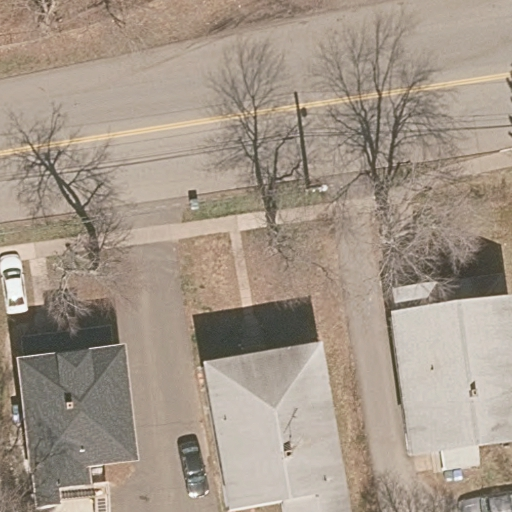DT: (296, 175, 329, 196)
